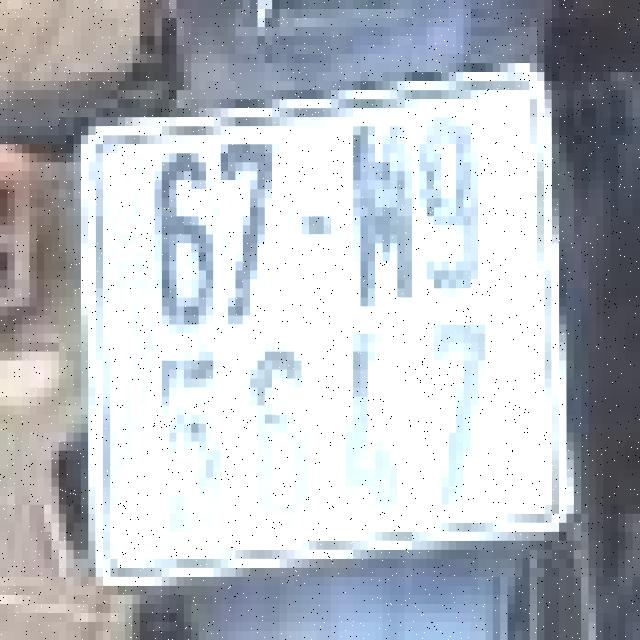4: (331, 324, 412, 532)
5: (147, 347, 236, 554)
6: (143, 135, 217, 334), (250, 333, 316, 550)
7: (423, 311, 511, 527), (213, 126, 287, 334)
9: (419, 99, 493, 307)
M: (335, 99, 423, 316)
